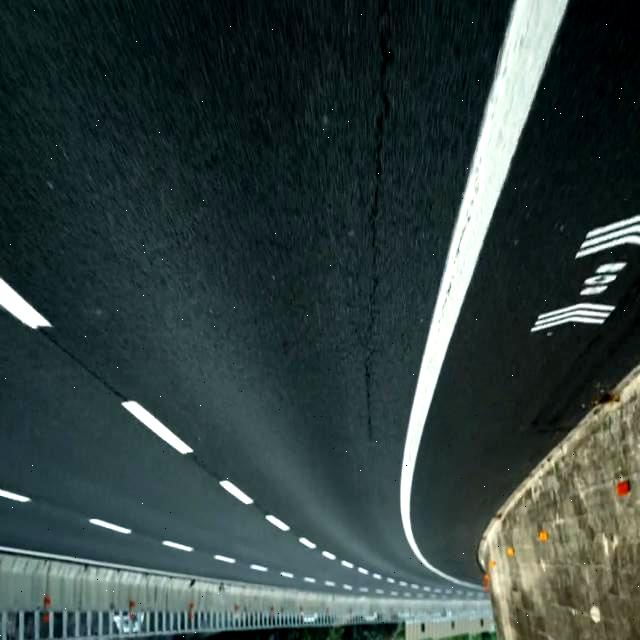lane: (400, 0, 569, 588), (121, 400, 194, 454), (1, 278, 51, 329), (220, 480, 254, 502), (1, 488, 30, 502), (266, 516, 290, 531)
road: (0, 1, 512, 591), (412, 1, 639, 583)
